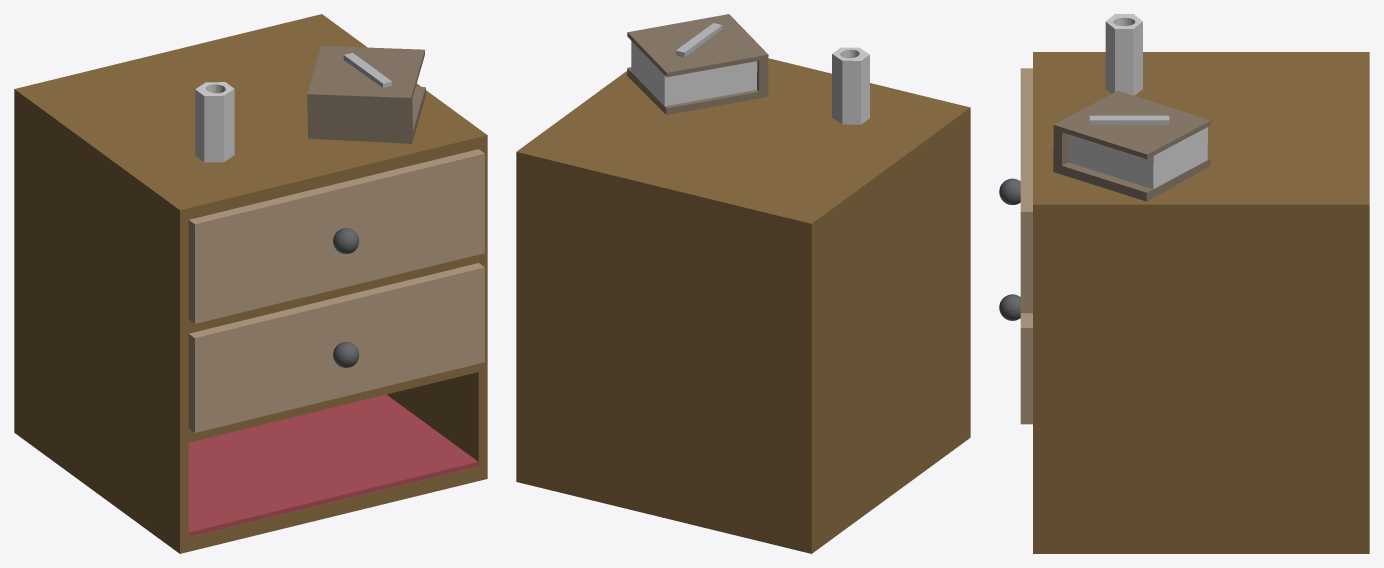
Rendered from nightstand.glb.
3 views of the same model, side by side, from view 1: azimuth 30°, elevation 25°; view 2: azimuth 150°, elevation 25°; view 3: azimuth 270°, elevation 25° (orthographic). The views are drawn at different scales.
Visible parts, largest first — view 1: Mesh_Mesh_head_geo.001_lambert2SG.001; view 2: Mesh_Mesh_head_geo.001_lambert2SG.001; view 3: Mesh_Mesh_head_geo.001_lambert2SG.001.
Boxes of the visible parts, x1,y1,x2,y2 form: Mesh_Mesh_head_geo.001_lambert2SG.001: (14,14,487,553); Mesh_Mesh_head_geo.001_lambert2SG.001: (516,14,970,553); Mesh_Mesh_head_geo.001_lambert2SG.001: (999,14,1369,553).
Bounding box in the file's own units: 67.88 × 87 × 69.64.
